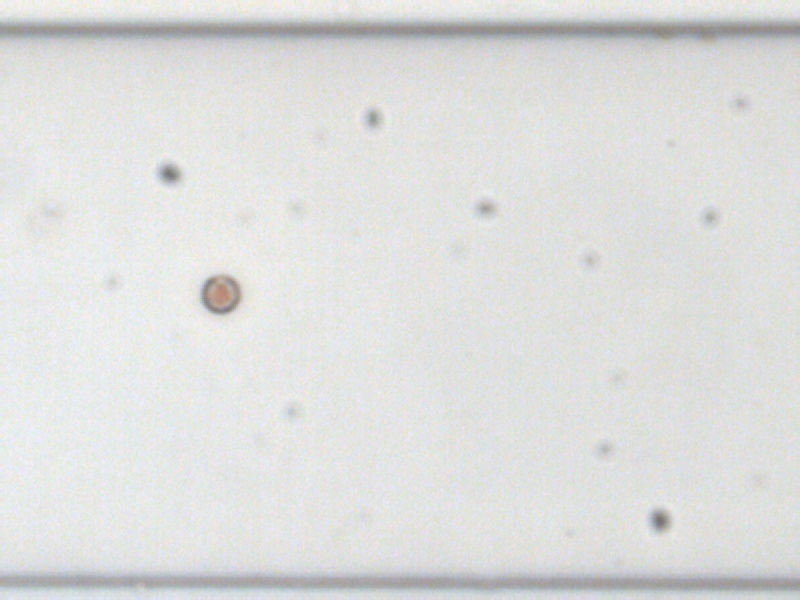Porphyridium: (199, 272, 242, 315)
